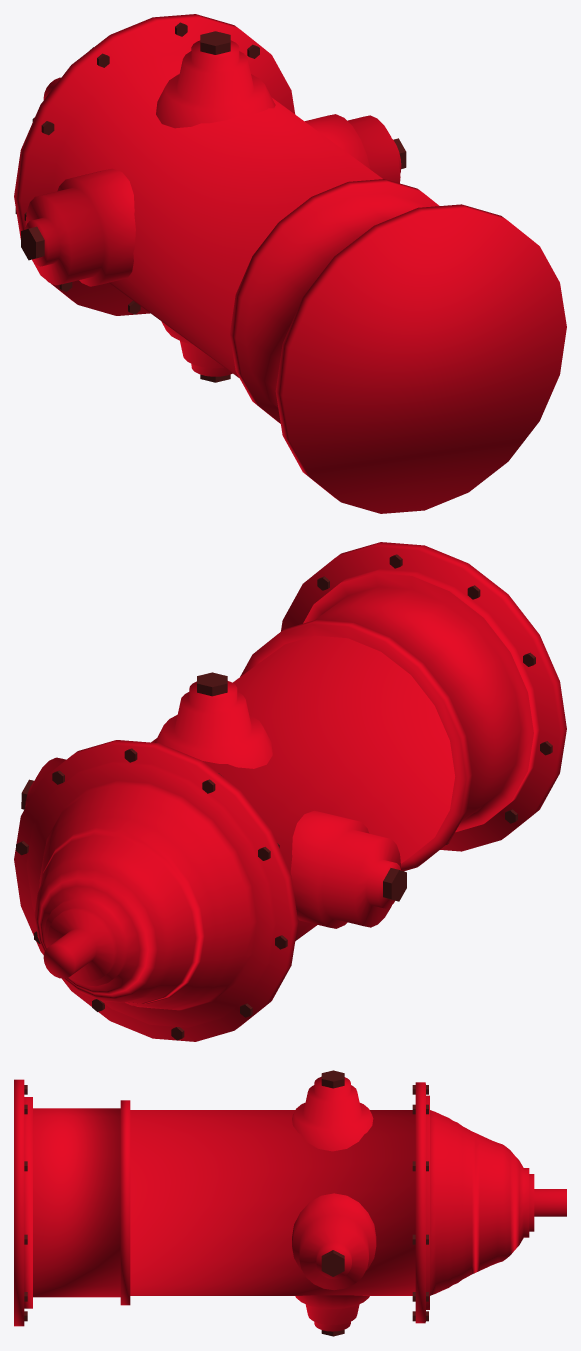
Rendered from hidrante.fbx.
3 views of the same model, one above another, from view 1: azimuth 30°, elevation 25°; view 2: azimuth 150°, elevation 25°; view 3: azimuth 270°, elevation 25° (orthographic). The views are drawn at different scales.
Parts seen in each view (by area): view 1: Circle.038_Circle.039; view 2: Circle.038_Circle.039; view 3: Circle.038_Circle.039.
Boxes of the visible parts, bbox=[...] form: Circle.038_Circle.039: bbox=[14, 14, 566, 513]; Circle.038_Circle.039: bbox=[14, 542, 566, 1041]; Circle.038_Circle.039: bbox=[14, 1070, 566, 1336].
Bounding box in the file's own units: 14.29 × 12.42 × 24.42.
Materials: 2 (2 with a texture image).
